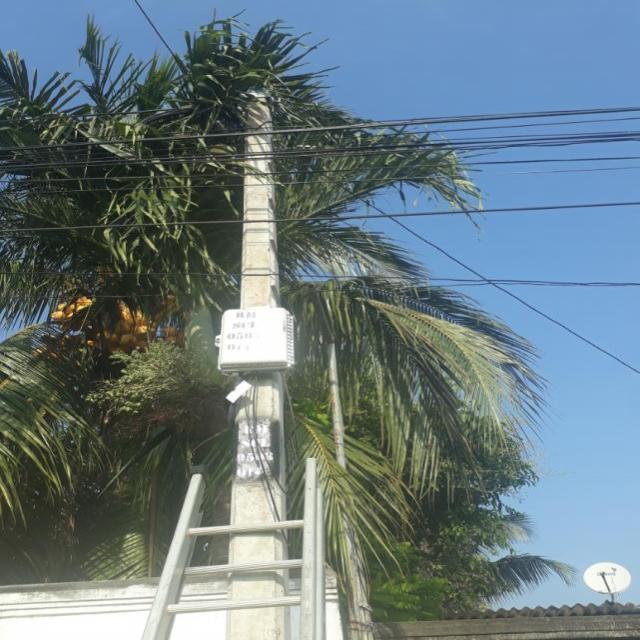light_pole: (212, 83, 307, 576)
